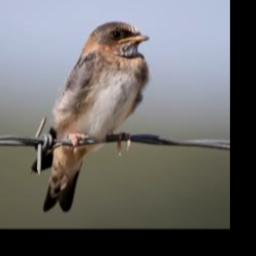Swallow: (29, 18, 152, 213)
